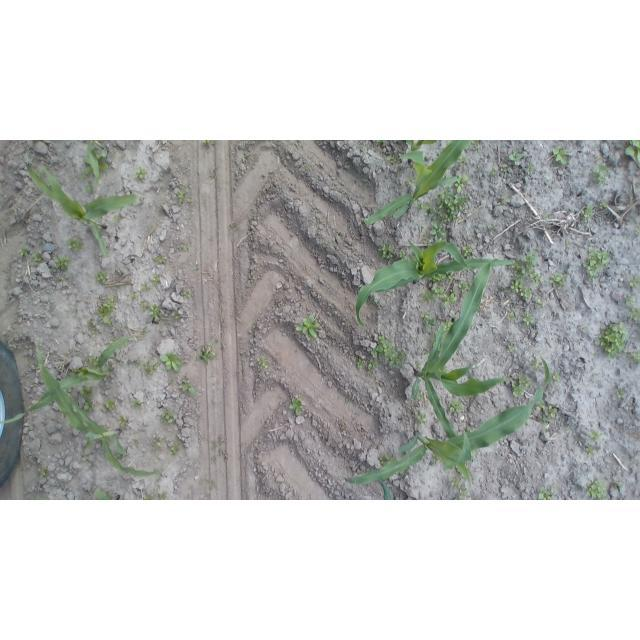Maize: (342, 352, 550, 484), (411, 259, 513, 440), (33, 344, 163, 479), (354, 240, 514, 327), (22, 145, 143, 259), (1, 334, 148, 424), (362, 141, 472, 226), (358, 469, 417, 500), (35, 489, 122, 500), (86, 140, 104, 184), (404, 141, 437, 164)
Weeds: (595, 322, 628, 358), (371, 335, 407, 367), (436, 185, 468, 214), (583, 248, 612, 278), (431, 322, 453, 356), (425, 201, 459, 223), (522, 251, 543, 285), (511, 274, 533, 303), (84, 149, 108, 174), (97, 296, 116, 327), (426, 220, 447, 247), (297, 316, 320, 339), (160, 351, 184, 371), (196, 341, 216, 365), (586, 479, 608, 500), (512, 374, 531, 397), (624, 141, 640, 168), (79, 385, 94, 411), (591, 165, 609, 186), (420, 287, 444, 302), (178, 377, 196, 396), (428, 269, 453, 282), (537, 485, 558, 500), (552, 147, 568, 166), (379, 452, 398, 468), (51, 257, 71, 272), (550, 273, 567, 290), (455, 173, 468, 193), (378, 243, 394, 259), (289, 399, 304, 416), (422, 311, 435, 330), (509, 260, 526, 274), (68, 237, 85, 251), (582, 205, 595, 223), (443, 290, 457, 306), (161, 409, 175, 424), (137, 360, 151, 375), (509, 151, 524, 165), (457, 463, 471, 478), (148, 304, 161, 320), (367, 357, 378, 375), (257, 357, 272, 370), (179, 189, 192, 204), (458, 485, 471, 499), (135, 166, 147, 181), (450, 400, 463, 413), (545, 406, 558, 419), (628, 307, 640, 321), (87, 319, 98, 334), (530, 358, 542, 371), (550, 372, 562, 385), (522, 313, 534, 326), (95, 271, 107, 284), (628, 351, 640, 363), (457, 281, 469, 293), (104, 399, 117, 410), (397, 249, 410, 260), (457, 154, 468, 167), (498, 195, 511, 205), (462, 244, 472, 257), (387, 154, 400, 164), (417, 414, 428, 425), (629, 277, 640, 288), (170, 443, 181, 454), (407, 175, 418, 186), (432, 452, 442, 464), (356, 356, 365, 369), (85, 179, 93, 193), (417, 391, 427, 402), (590, 430, 601, 440), (625, 295, 636, 305), (88, 357, 99, 367), (150, 275, 160, 286), (366, 297, 376, 307), (131, 399, 142, 408), (586, 445, 595, 456), (141, 283, 152, 292), (490, 167, 499, 178), (613, 480, 623, 489), (536, 400, 545, 410), (18, 247, 28, 256), (449, 477, 459, 486), (118, 415, 126, 426), (68, 369, 80, 376), (33, 253, 42, 262), (39, 470, 49, 478), (183, 289, 191, 299), (154, 439, 162, 449), (143, 494, 156, 500), (489, 225, 496, 236), (140, 301, 147, 312), (417, 199, 424, 210), (507, 312, 516, 320), (172, 311, 181, 319), (66, 274, 75, 282), (439, 367, 449, 374), (157, 493, 167, 500), (361, 179, 371, 186), (373, 140, 387, 145), (154, 255, 162, 263), (113, 452, 121, 460), (617, 390, 625, 398), (543, 417, 550, 426), (508, 343, 515, 352), (449, 313, 458, 320), (64, 389, 71, 398), (528, 164, 535, 173), (153, 360, 160, 368), (114, 214, 121, 222), (201, 140, 215, 144), (535, 299, 544, 305), (78, 173, 87, 179), (501, 164, 507, 173), (504, 287, 511, 294), (421, 349, 429, 355), (415, 360, 421, 368), (108, 362, 114, 370), (129, 292, 135, 300), (418, 225, 424, 233), (473, 140, 479, 148), (108, 338, 117, 343), (600, 203, 607, 209), (183, 245, 190, 251), (230, 221, 237, 227), (87, 465, 93, 472), (133, 439, 139, 446), (191, 267, 197, 274), (470, 450, 476, 457), (83, 454, 89, 460), (582, 326, 588, 332), (568, 241, 573, 248), (546, 214, 553, 219), (466, 428, 474, 432), (341, 423, 346, 429), (326, 241, 331, 247), (143, 326, 148, 332), (636, 227, 640, 234), (542, 428, 547, 433), (313, 223, 318, 228), (305, 165, 310, 170), (209, 174, 214, 179), (631, 458, 637, 462), (408, 338, 414, 342), (567, 425, 572, 429), (211, 485, 216, 489), (108, 494, 113, 498), (249, 216, 253, 220), (74, 308, 78, 312), (56, 278, 60, 282), (78, 461, 82, 465), (338, 230, 341, 234), (77, 498, 83, 500), (157, 486, 160, 489)
